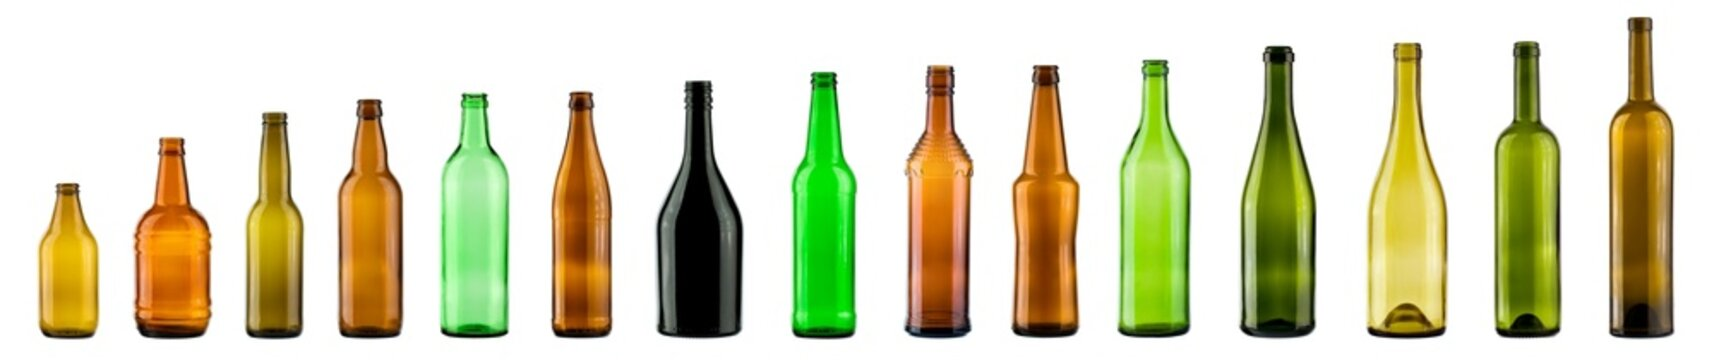glass_bottle: (1354, 32, 1459, 347), (1596, 9, 1689, 350), (1480, 28, 1576, 350), (644, 74, 755, 346), (1228, 35, 1326, 342), (887, 58, 986, 345), (1108, 55, 1202, 345), (774, 63, 869, 344), (1002, 59, 1090, 346), (540, 84, 627, 349), (431, 86, 518, 344), (329, 94, 415, 346), (124, 132, 218, 347), (237, 102, 313, 344), (26, 172, 111, 348)
